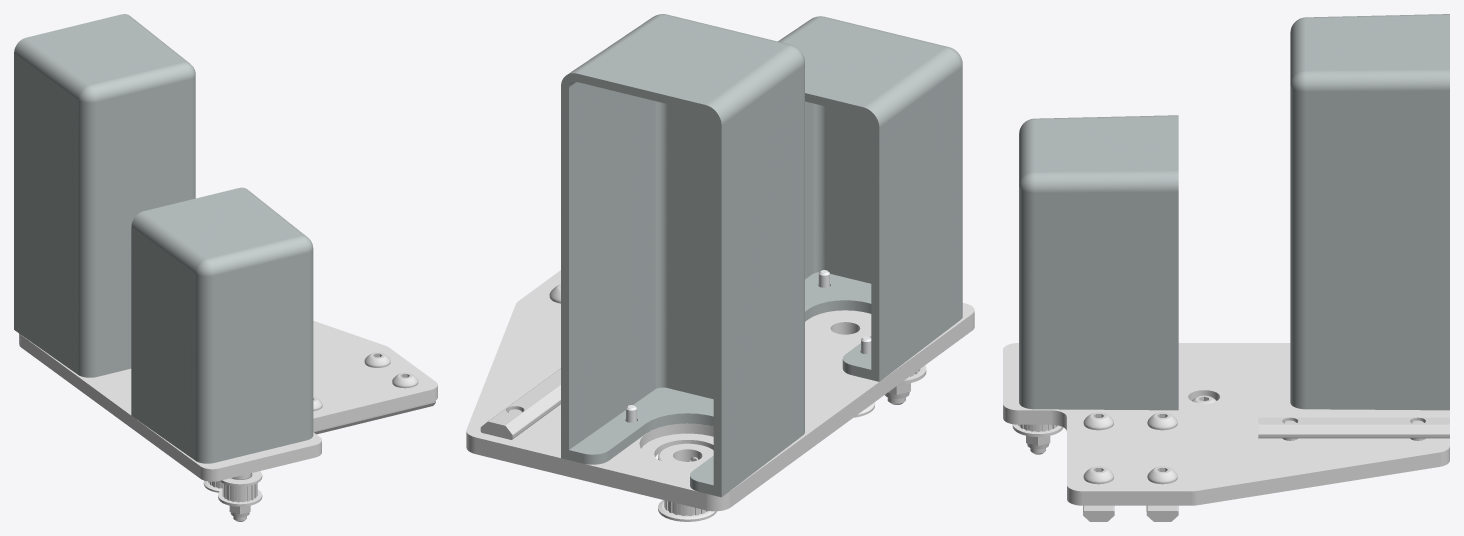
File: left_bracket_v19.glb
3 views of the same model, side by side, from view 1: azimuth 30°, elevation 25°; view 2: azimuth 150°, elevation 25°; view 3: azimuth 270°, elevation 25° (orthographic). The views are drawn at different scales.
Visible parts, largest first — view 1: Left Gantry Corner Bracket; view 2: Left Gantry Corner Bracket; view 3: Left Gantry Corner Bracket.
Part boxes in pixels (x1,y1,x2,y2): Left Gantry Corner Bracket: (14, 14, 437, 521); Left Gantry Corner Bracket: (466, 14, 974, 521); Left Gantry Corner Bracket: (1003, 14, 1449, 521).
Size of the model in its own units: 0.11 by 0.144 by 0.14.
Materials: 1 (1 with a texture image).
